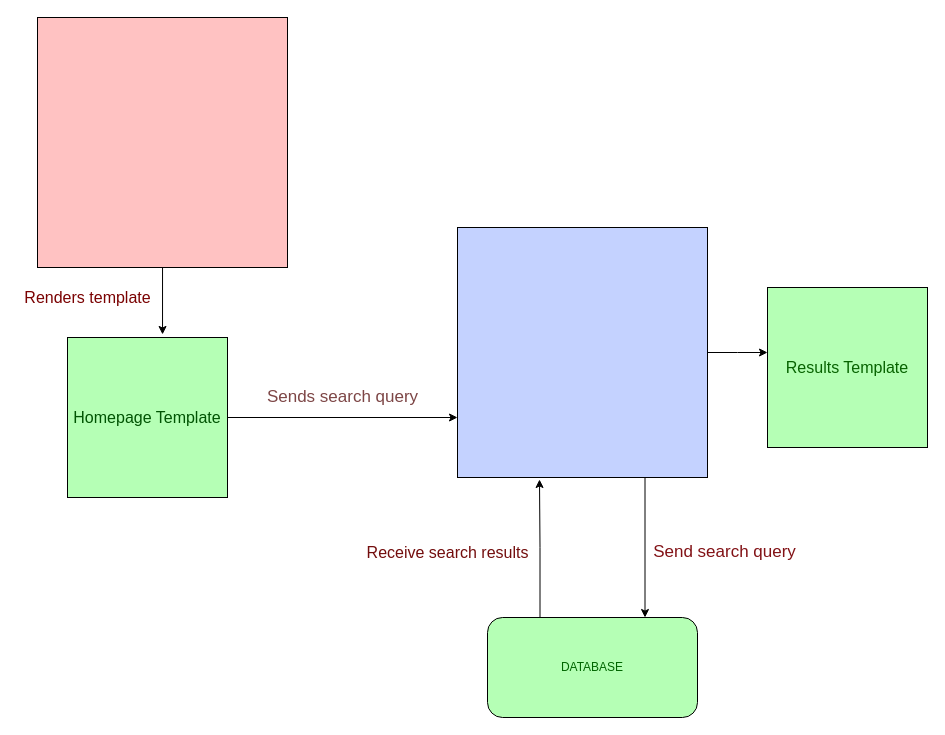
Some shapes in this 945 by 735 pixel diagram are drawn without their labels. The centre of each missing label's shape, as x and y in pixels:
The "entry_point" function: the point at 162,142
The "search_results" function: the point at 582,352
